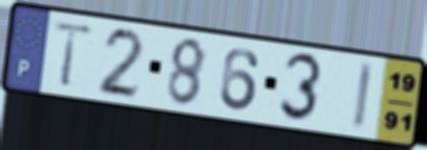2: (96, 26, 150, 102)
3: (274, 51, 329, 126)
6: (219, 46, 261, 112)
8: (165, 35, 210, 108)
I: (348, 58, 376, 134)
T: (49, 18, 98, 89)
